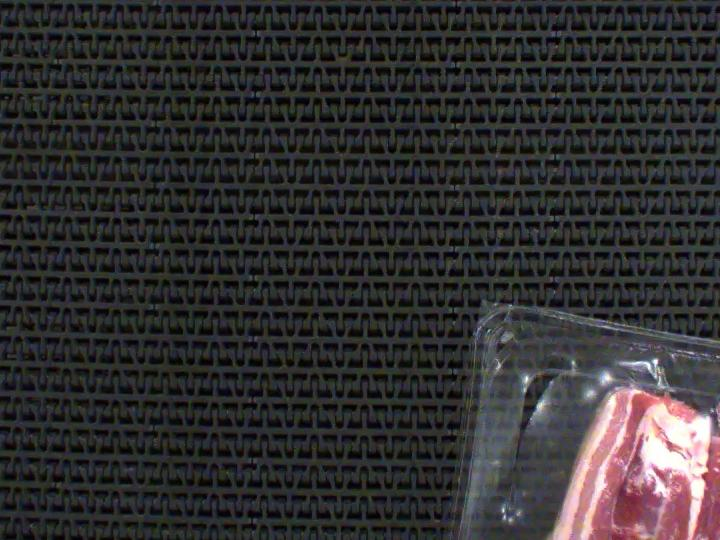unsealed: (477, 313, 720, 540)
